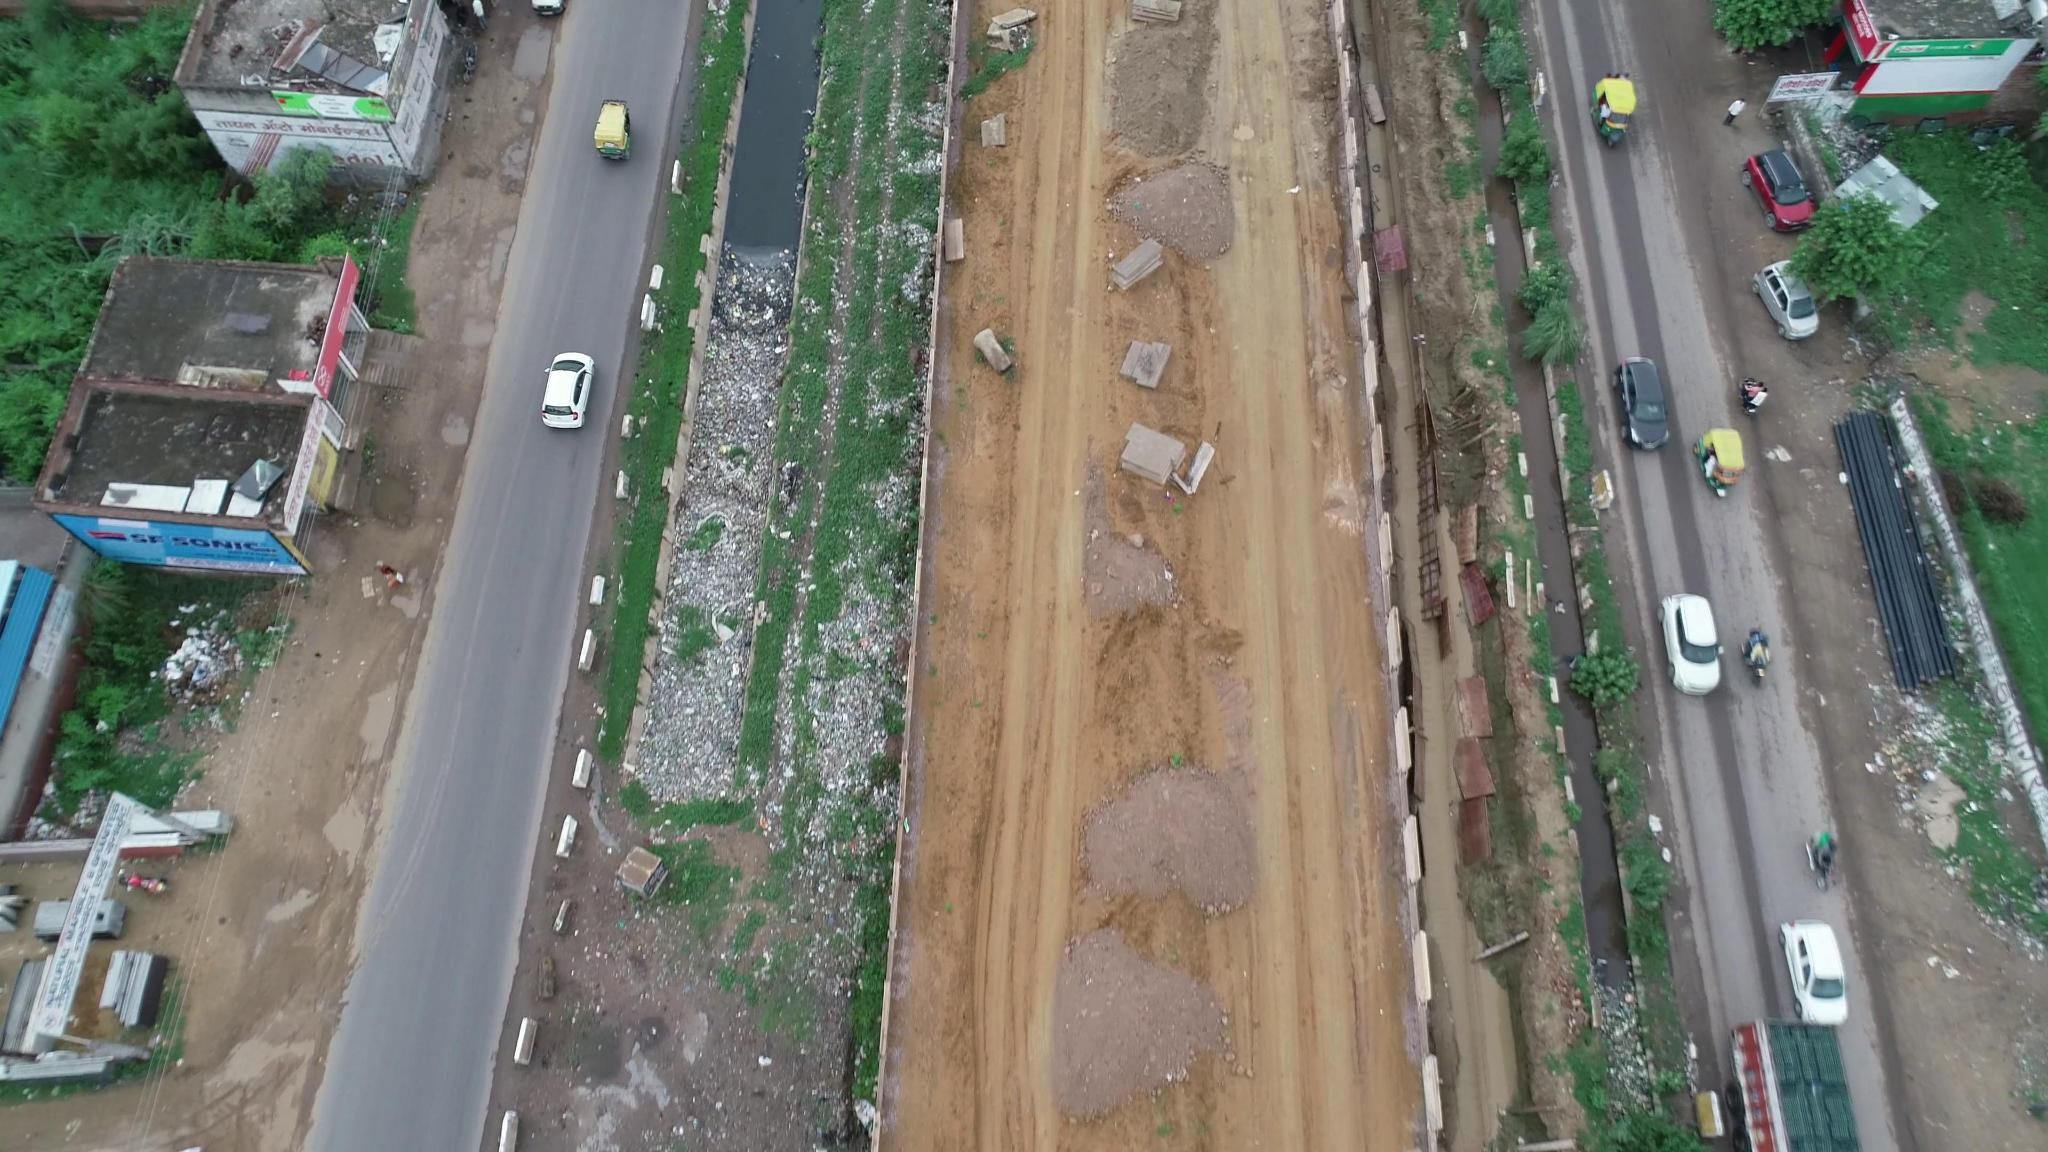Road_side_garbage: (634, 324, 791, 757)
